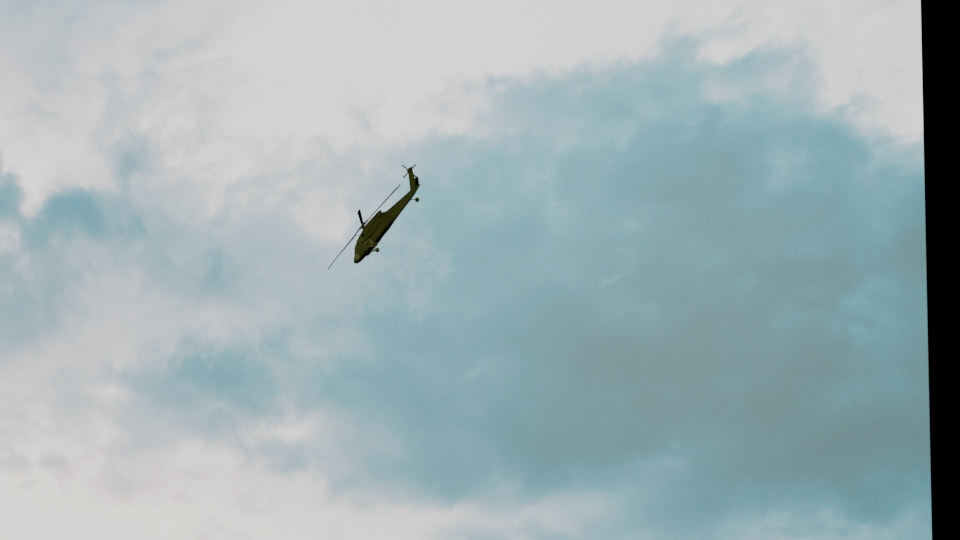heli: (351, 161, 425, 264)
